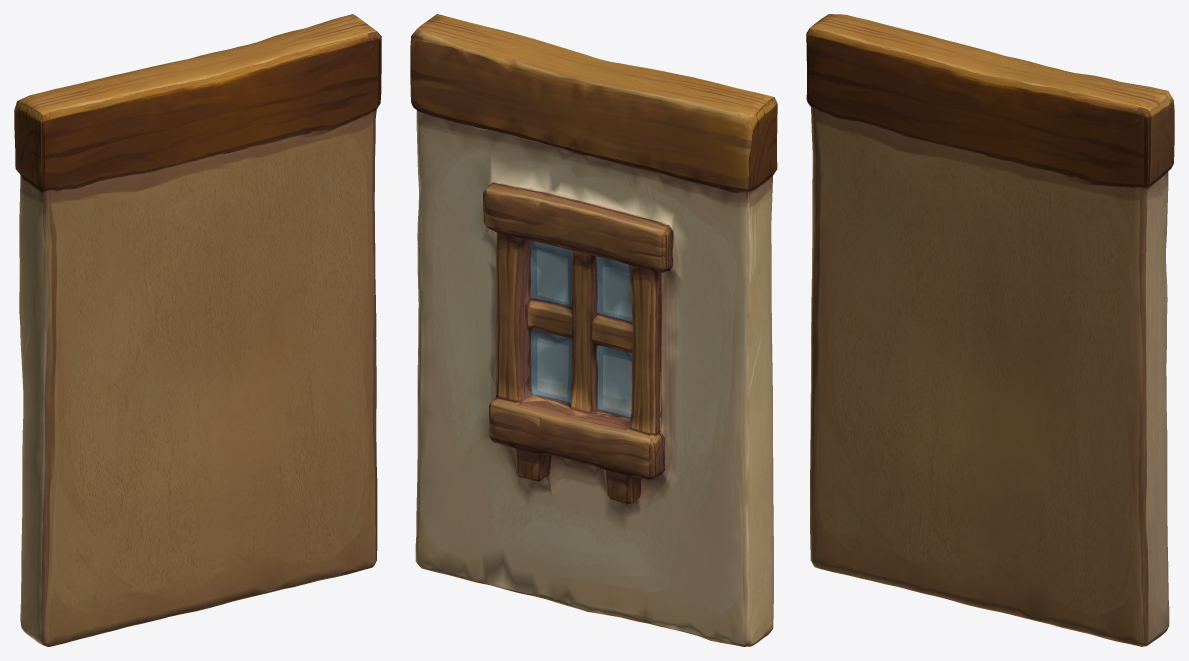
File: SM_Env_WindowWall.fbx
The picture shows the model from 3 angles, left to right: view 1: azimuth 30°, elevation 25°; view 2: azimuth 150°, elevation 25°; view 3: azimuth 330°, elevation 25°; orthographic projection.
Parts seen in each view (by area): view 1: SM_Env_WindowWall; view 2: SM_Env_WindowWall; view 3: SM_Env_WindowWall.
Boxes of the visible parts, left/top/right/bottom form: SM_Env_WindowWall: left=14, top=14, right=381, bottom=646; SM_Env_WindowWall: left=410, top=14, right=777, bottom=646; SM_Env_WindowWall: left=806, top=14, right=1174, bottom=646.
Bounding box in the file's own units: 2 × 3 × 0.4.
